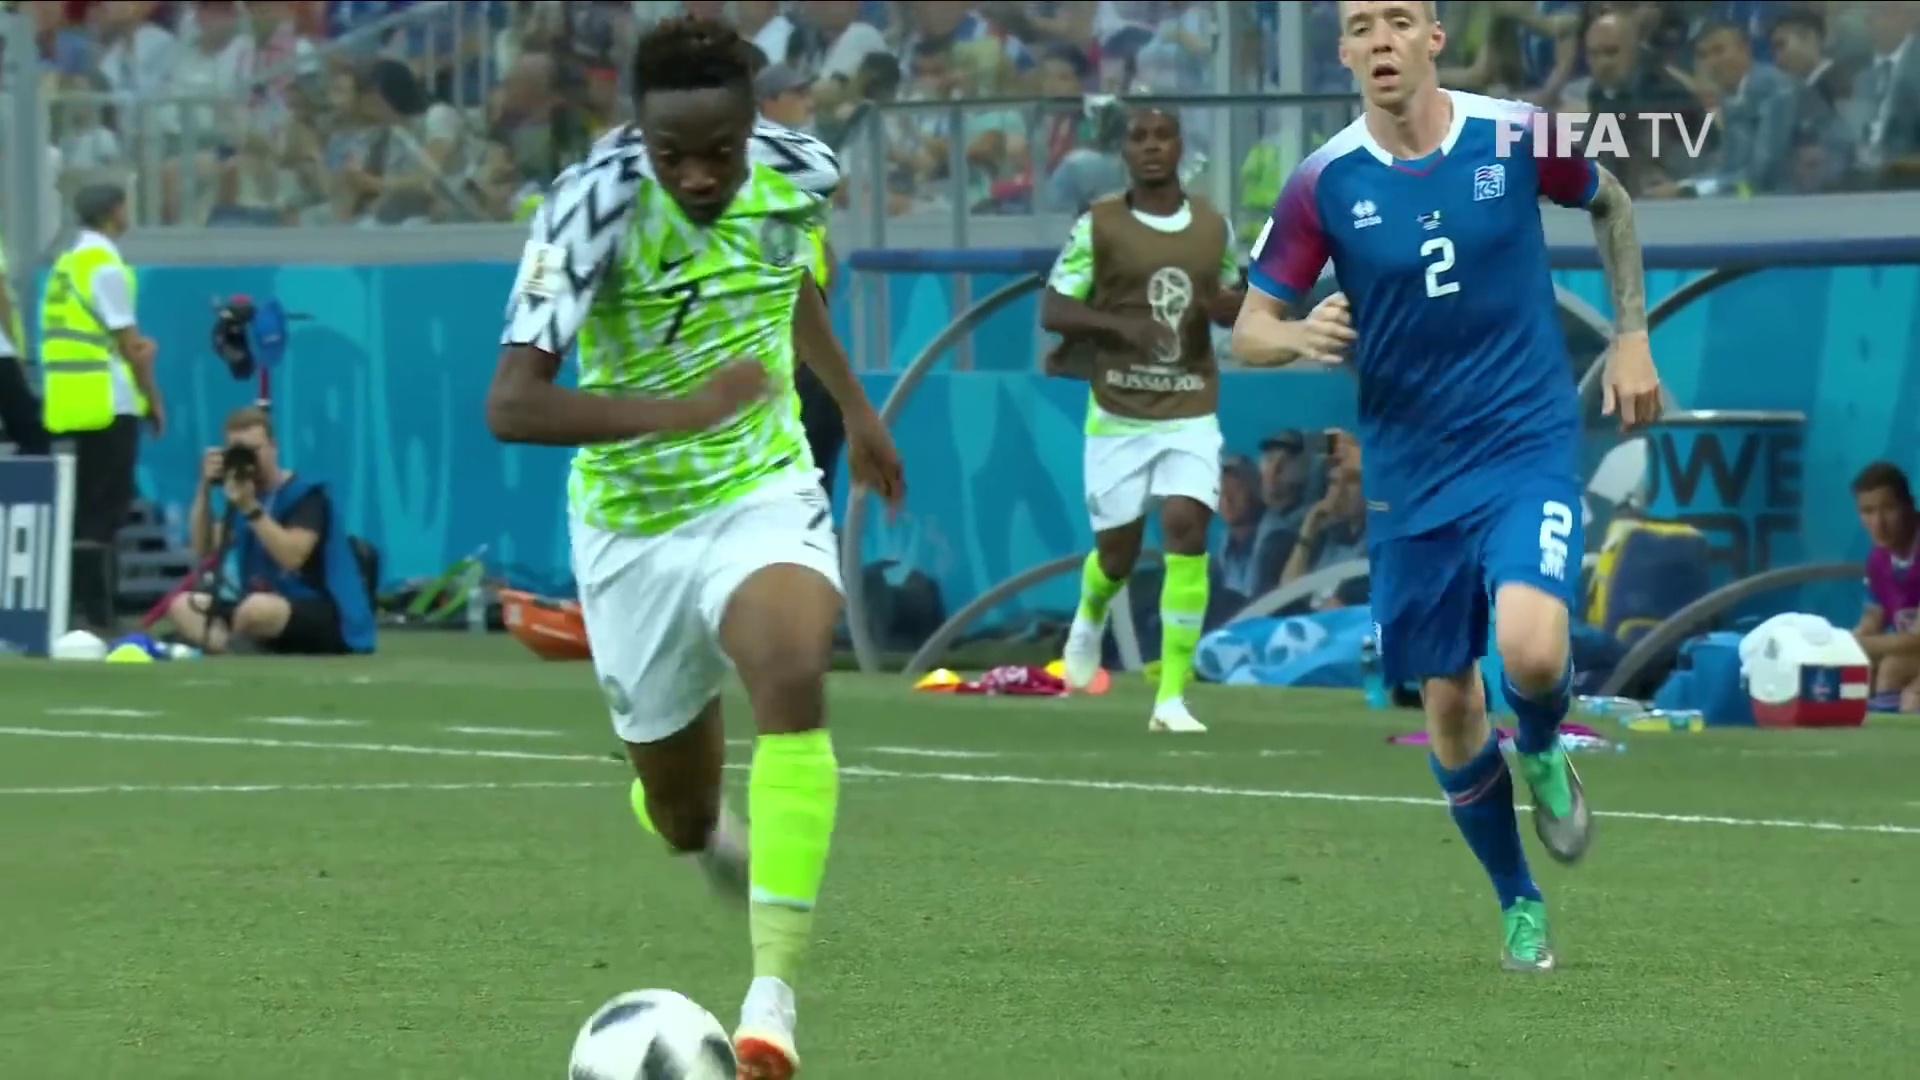ball: (567, 990, 738, 1080)
person: (489, 23, 899, 1080), (1228, 1, 1661, 972)
